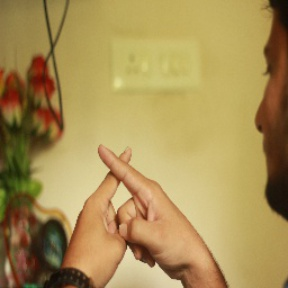X: (55, 125, 181, 223)
